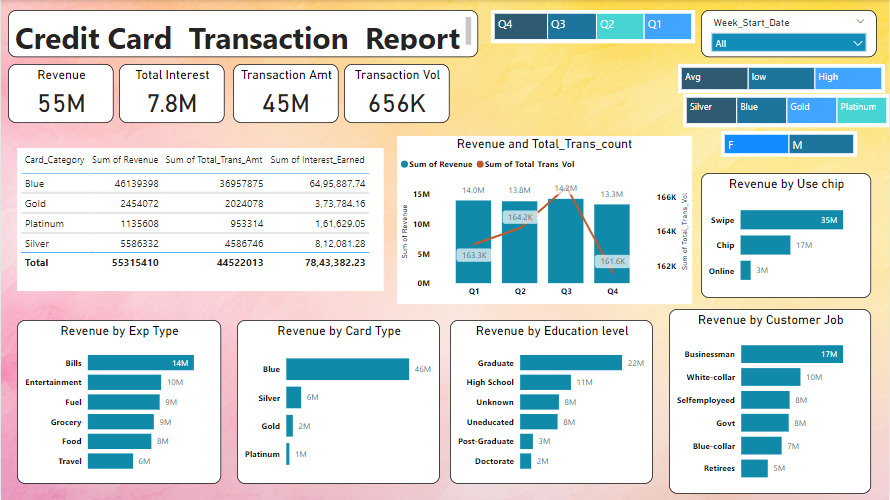

This screenshot's page, from the dashboard's own definition file:
{"tool":"powerbi","page":{"name":"Page 2","canvas":[1280,720],"ordinal":1},"visuals":[{"type":"textbox","box":[10.1,14.4,676.8,67.7],"z":0},{"type":"lineStackedColumnComboChart","title":"Revenue and  Total_Trans_count","fields":{"Category":["creditcard.Qtr"],"Y":["Sum(creditcard.Revenue)"],"Y2":["Sum(creditcard.Total_Trans_Vol)"]},"box":[570.2,195.8,424.8,241.9],"z":1000},{"type":"barChart","title":" Revenue by Exp Type","fields":{"Category":["creditcard.Exp Type"],"Y":["Sum(creditcard.Revenue)"]},"box":[23,460.8,293.8,236.2],"z":2000},{"type":"barChart","title":" Revenue by Education level","fields":{"Y":["Sum(creditcard.Revenue)"],"Category":["customer.Education_Level"]},"box":[646.6,460.8,292.3,236.2],"z":3000},{"type":"barChart","title":" Revenue by Card Type","fields":{"Category":["creditcard.Card_Category"],"Y":["Sum(creditcard.Revenue)"]},"box":[339.8,460.8,292.3,236.2],"z":4000},{"type":"barChart","title":" Revenue by Use chip","fields":{"Category":["creditcard.Use Chip"],"Y":["Sum(creditcard.Revenue)"]},"box":[1008,249.1,244.8,180],"z":5000},{"type":"tableEx","fields":{"Values":["creditcard.Card_Category","Sum(creditcard.Revenue)","Sum(creditcard.Total_Trans_Amt)","Sum(creditcard.Interest_Earned)"]},"box":[23,213.1,528.5,205.9],"z":6000},{"type":"card","title":"Revenue","fields":{"Values":["Sum(creditcard.Revenue)"]},"box":[10.1,92.2,152,85],"z":7000},{"type":"barChart","title":" Revenue by Customer Job","fields":{"Y":["Sum(creditcard.Revenue)"],"Category":["customer.Customer_Job"]},"box":[961.9,445,290.9,266.4],"z":8000},{"type":"card","title":"Transaction Amt","fields":{"Values":["Sum(creditcard.Total_Trans_Amt)"]},"box":[334.1,92.2,152,85],"z":9000},{"type":"card","title":"Total Interest","fields":{"Values":["Sum(creditcard.Interest_Earned)"]},"box":[169.9,92.2,152,85],"z":10000},{"type":"card","title":"Transaction Vol","fields":{"Values":["Sum(creditcard.Total_Trans_Vol)"]},"box":[493.9,92.2,152,85],"z":11000},{"type":"slicer","fields":{"Values":["creditcard.Week_Start_Date"]},"box":[1008,14.4,253.4,67.7],"z":12000},{"type":"treemap","fields":{"Group":["creditcard.Qtr"],"Values":["Avg(creditcard.Client_Num)"]},"box":[705.6,14.4,293.8,47.5],"z":13000},{"type":"treemap","fields":{"Group":["customer.Gender"],"Values":["Avg(creditcard.Client_Num)"]},"box":[1036.8,188.6,195.8,37.4],"z":14000},{"type":"treemap","fields":{"Group":["creditcard.Card_Category"],"Values":["Avg(creditcard.Client_Num)"]},"box":[982.1,135.4,298.1,47.5],"z":15000},{"type":"treemap","fields":{"Group":["customer.IncomeGroup"],"Values":["Avg(creditcard.Client_Num)"]},"box":[974.9,92.2,298.1,41.8],"z":16000}]}

Visuals, with their boxes in screenshot pixels (x1, y1, x2, y2), scaled from the page's 1280x720 canvas onto the 890x500 screenshot:
textbox: box=[7, 10, 478, 57]
"Revenue and  Total_Trans_count" lineStackedColumnComboChart: box=[396, 136, 692, 304]
" Revenue by Exp Type" barChart: box=[16, 320, 220, 484]
" Revenue by Education level" barChart: box=[450, 320, 653, 484]
" Revenue by Card Type" barChart: box=[236, 320, 440, 484]
" Revenue by Use chip" barChart: box=[701, 173, 871, 298]
tableEx - creditcard.Card_Category x Sum(creditcard.Revenue): box=[16, 148, 383, 291]
"Revenue" card: box=[7, 64, 113, 123]
" Revenue by Customer Job" barChart: box=[669, 309, 871, 494]
"Transaction Amt" card: box=[232, 64, 338, 123]
"Total Interest" card: box=[118, 64, 224, 123]
"Transaction Vol" card: box=[343, 64, 449, 123]
slicer - creditcard.Week_Start_Date: box=[701, 10, 877, 57]
treemap - creditcard.Qtr x Avg(creditcard.Client_Num): box=[491, 10, 695, 43]
treemap - customer.Gender x Avg(creditcard.Client_Num): box=[721, 131, 857, 157]
treemap - creditcard.Card_Category x Avg(creditcard.Client_Num): box=[683, 94, 889, 127]
treemap - customer.IncomeGroup x Avg(creditcard.Client_Num): box=[678, 64, 885, 93]
